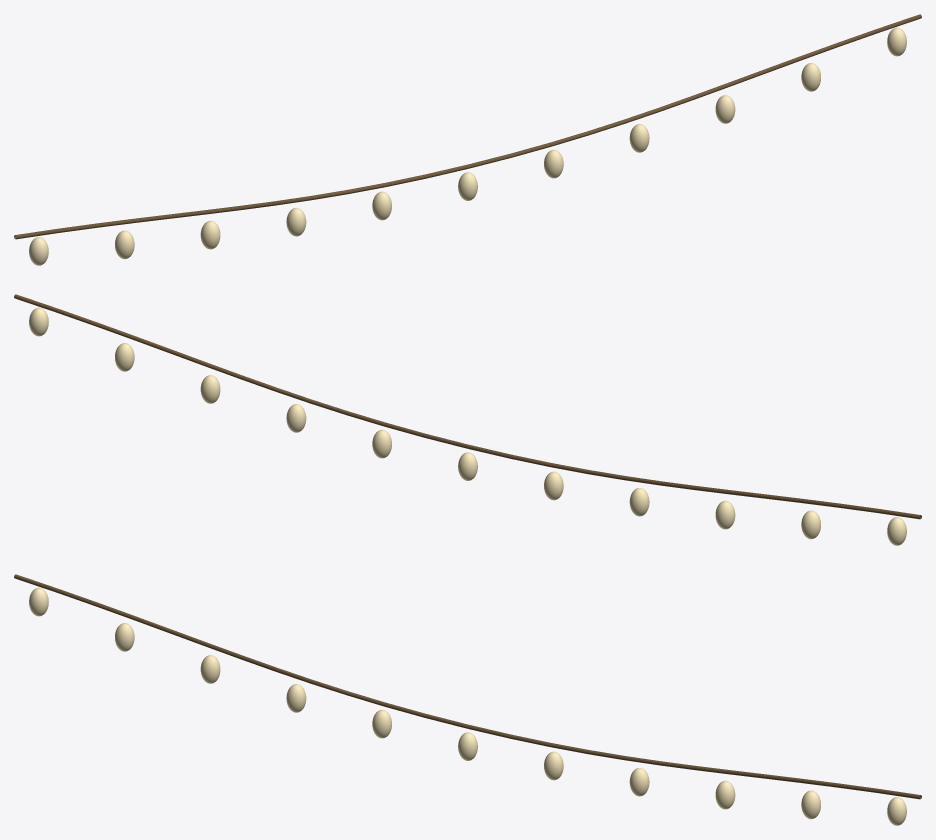
Rendered from nautical_string_lights.glb.
3 views of the same model, one above another, from view 1: azimuth 30°, elevation 25°; view 2: azimuth 150°, elevation 25°; view 3: azimuth 330°, elevation 25° (orthographic).
Parts seen in each view (by area): view 1: fio; view 2: fio; view 3: fio.
Part boxes in pixels (box(x1,y1,x2,y2)): fio: box(14, 14, 921, 239); fio: box(14, 294, 921, 519); fio: box(14, 574, 921, 799).
Bounding box in the file's own units: 3.8 × 0.3026 × 0.072.
Materials: 12 (1 with a texture image).
